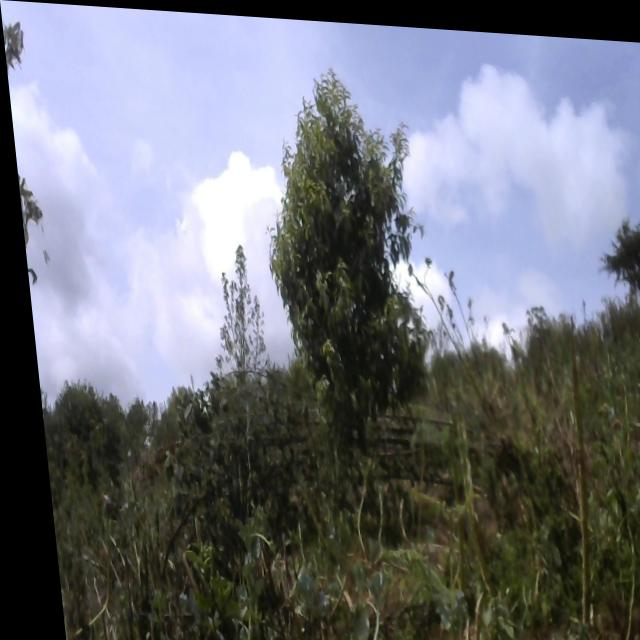Lemon Myrtle: (244, 39, 449, 491)
Salix alba: (36, 358, 103, 474)
cedrus: (587, 194, 640, 286)
